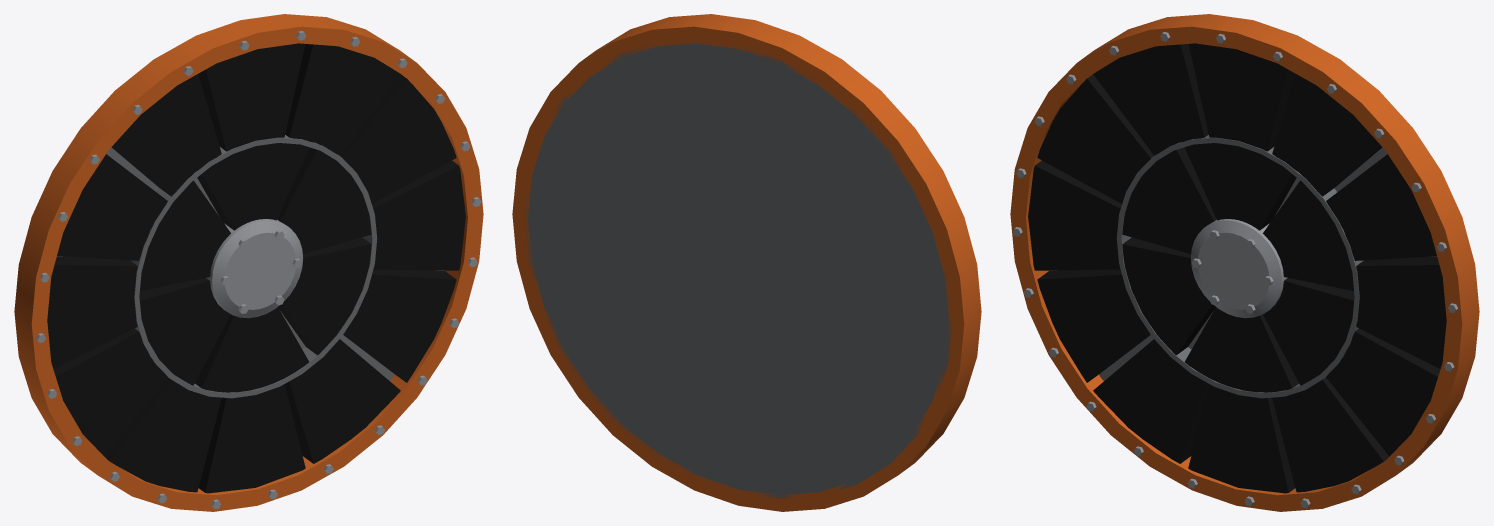
The model's file is engine_hot_emitter_annulus.obj.
3 renders of one model, left to right at view 1: azimuth 30°, elevation 25°; view 2: azimuth 150°, elevation 25°; view 3: azimuth 330°, elevation 25°, orthographic.
Parts seen in each view (by area): view 1: engine_hot_emitter_annulus; view 2: engine_hot_emitter_annulus; view 3: engine_hot_emitter_annulus.
Part boxes in pixels (box(x1,y1,x2,y2)): engine_hot_emitter_annulus: box(14, 14, 483, 511); engine_hot_emitter_annulus: box(512, 14, 981, 511); engine_hot_emitter_annulus: box(1010, 14, 1479, 511).
Size of the model in its own units: 3.77 by 3.77 by 0.32.
